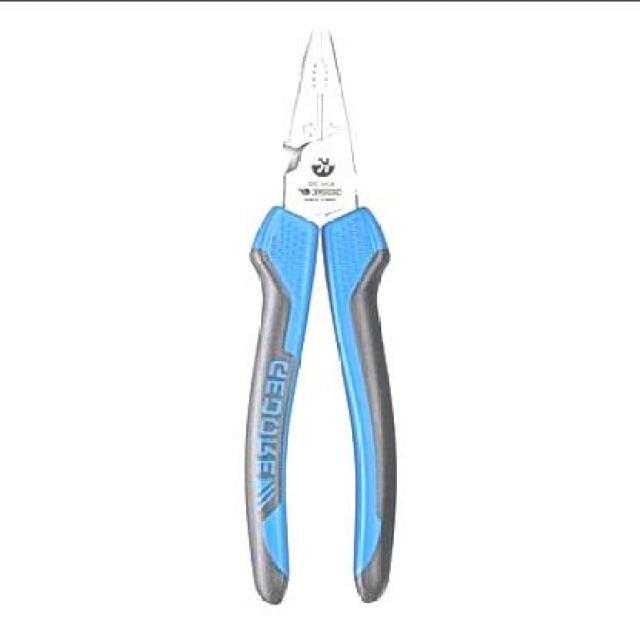pliers: (248, 23, 397, 606)
